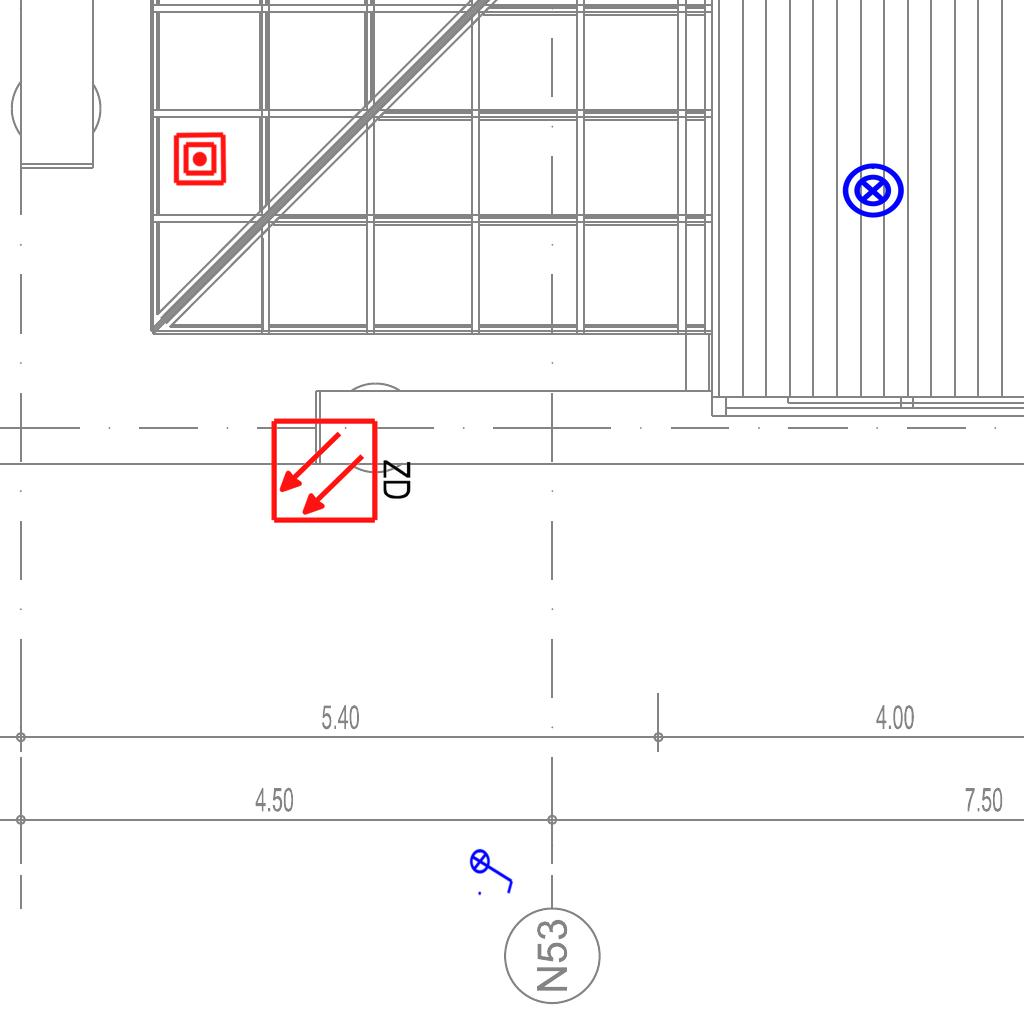Ausschalter_beleuchtet: (469, 842, 517, 898)
NAM-Nichtautomatischer_Melder: (172, 131, 228, 187)
Taster_beleuchtet: (840, 158, 906, 224)
ZD_Melder_in_Zwischendecke_mit_Revisionsoeffnung_mind_40_x_40_cm: (269, 412, 418, 526)
